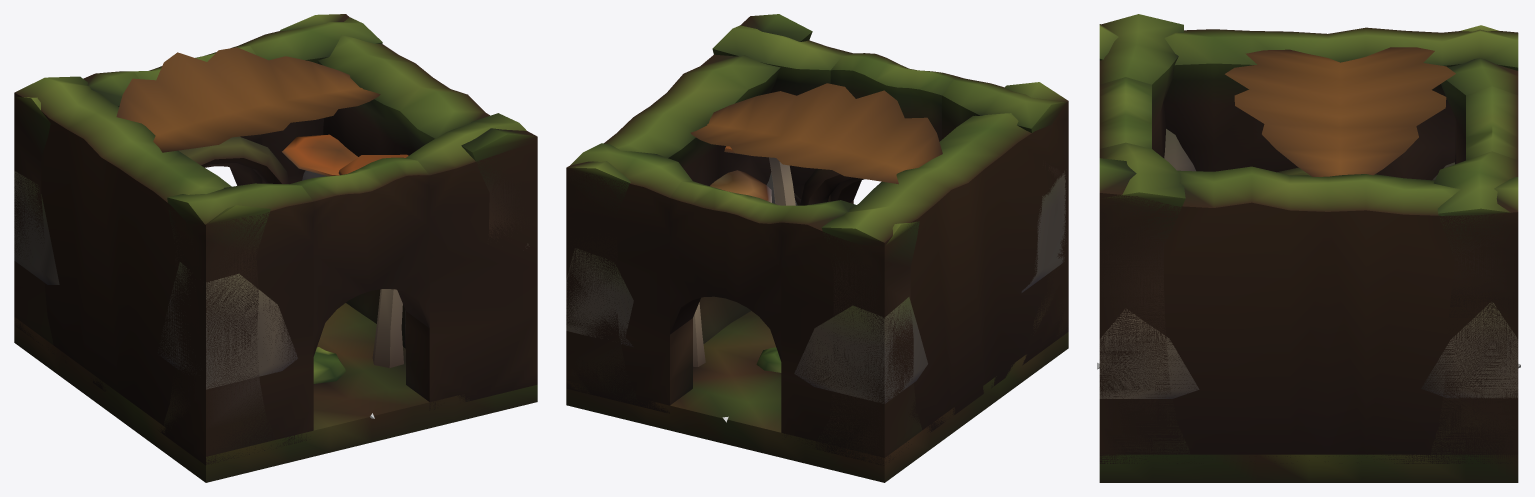
The model's file is mossy_hall.fbx.
3 renders of one model, left to right at view 1: azimuth 30°, elevation 25°; view 2: azimuth 150°, elevation 25°; view 3: azimuth 270°, elevation 25°, orthographic. The views are drawn at different scales.
Parts seen in each view (by area): view 1: COL_WallW_01, COL_WallS_01, COL_WallS_02, COL_Floor, COL_WallS_03, COL_LeafCanopy_01, COL_WallE_01, COL_Corner_01, COL_WallN_01, COL_WallN_02, COL_Corner_04, PROP_MushroomPillar_01 (+4 smaller); view 2: COL_WallW_01, COL_WallN_01, COL_WallE_01, COL_WallN_02, COL_Floor, COL_LeafCanopy_01, COL_WallN_03, COL_Corner_04, COL_WallS_02, COL_WallS_03, COL_WallS_01, COL_Corner_03 (+5 smaller); view 3: COL_WallE_01, COL_WallW_01, COL_LeafCanopy_01, COL_WallS_01, COL_WallN_02, COL_Floor, COL_Corner_03, COL_Corner_02, COL_WallS_02, COL_WallN_03, COL_WallS_03, COL_WallN_01 (+1 smaller).
Boxes of the visible parts, left/top/right/bottom form: COL_WallW_01: left=14, top=76, right=277, bottom=465; COL_WallS_01: left=406, top=113, right=537, bottom=410; COL_WallS_02: left=164, top=183, right=313, bottom=462; COL_Floor: left=14, top=303, right=537, bottom=482; COL_WallS_03: left=290, top=157, right=429, bottom=356; COL_LeafCanopy_01: left=116, top=47, right=380, bottom=152; COL_WallE_01: left=280, top=14, right=537, bottom=401; COL_Corner_01: left=158, top=262, right=297, bottom=389; COL_WallN_01: left=14, top=71, right=138, bottom=353; COL_WallN_02: left=239, top=17, right=382, bottom=183; COL_Corner_04: left=14, top=171, right=59, bottom=284; PROP_MushroomPillar_01: left=338, top=154, right=408, bottom=367; COL_WallW_01: left=816, top=82, right=1068, bottom=464; COL_WallN_01: left=781, top=200, right=922, bottom=465; COL_WallE_01: left=566, top=14, right=812, bottom=403; COL_WallN_02: left=566, top=143, right=692, bottom=413; COL_Floor: left=566, top=311, right=1068, bottom=482; COL_LeafCanopy_01: left=690, top=83, right=942, bottom=184; COL_WallN_03: left=670, top=181, right=797, bottom=361; COL_Corner_04: left=794, top=297, right=927, bottom=403; COL_WallS_02: left=942, top=78, right=1068, bottom=337; COL_WallS_03: left=830, top=53, right=964, bottom=202; COL_WallS_01: left=712, top=25, right=853, bottom=205; COL_Corner_03: left=566, top=248, right=633, bottom=346; COL_WallE_01: left=1099, top=158, right=1518, bottom=463; COL_WallW_01: left=1099, top=24, right=1518, bottom=180; COL_LeafCanopy_01: left=1225, top=47, right=1455, bottom=176; COL_WallS_01: left=1099, top=142, right=1189, bottom=463; COL_WallN_02: left=1430, top=151, right=1518, bottom=463; COL_Floor: left=1099, top=454, right=1518, bottom=482; COL_Corner_03: left=1421, top=302, right=1518, bottom=398; COL_Corner_02: left=1099, top=309, right=1199, bottom=398; COL_WallS_02: left=1099, top=14, right=1183, bottom=158; COL_WallN_03: left=1466, top=86, right=1518, bottom=160; COL_WallS_03: left=1099, top=77, right=1151, bottom=148; COL_WallN_01: left=1441, top=25, right=1518, bottom=164.
Size of the model in its own units: 8000 by 6414 by 8100.
